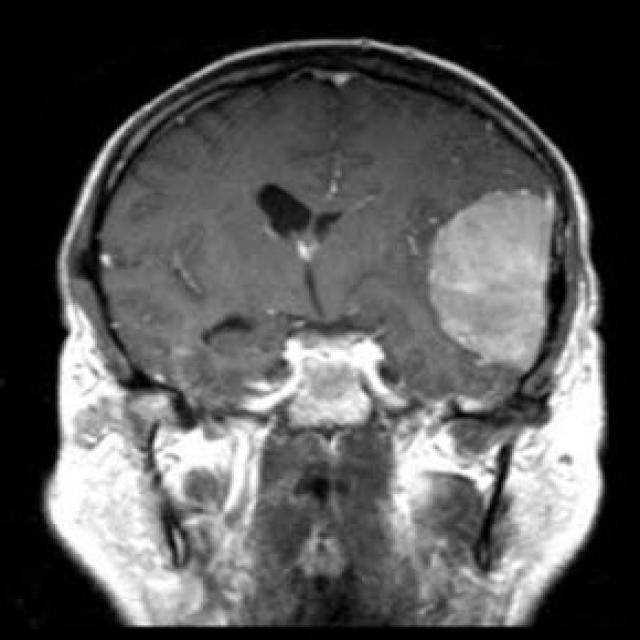brain_tumor: (429, 190, 553, 369)
